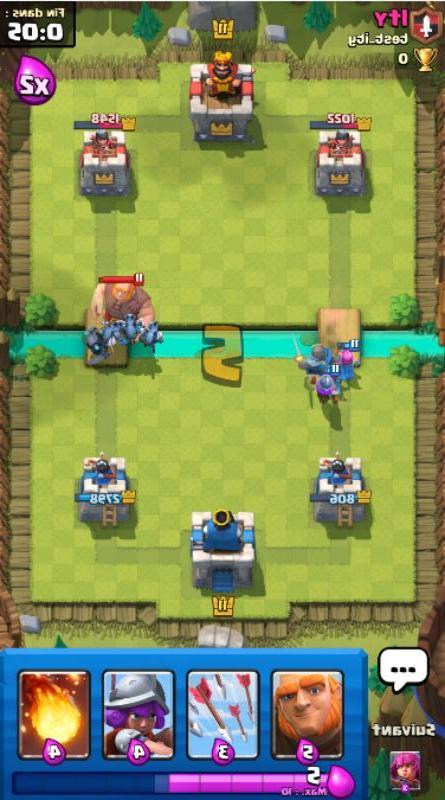enemy_giant: (86, 269, 156, 331)
player_archers: (334, 339, 363, 381)
player_knight: (287, 336, 336, 376)
player_mini_pekka: (81, 324, 115, 356)
player_minions: (134, 318, 165, 348), (111, 313, 142, 342)
player_musketeer: (309, 368, 345, 407)
